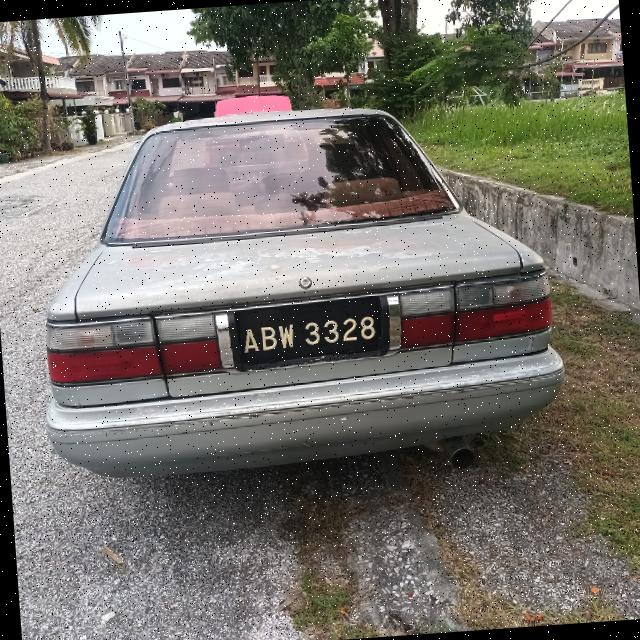License_Plate: (227, 309, 400, 373)
car: (8, 85, 578, 478)
